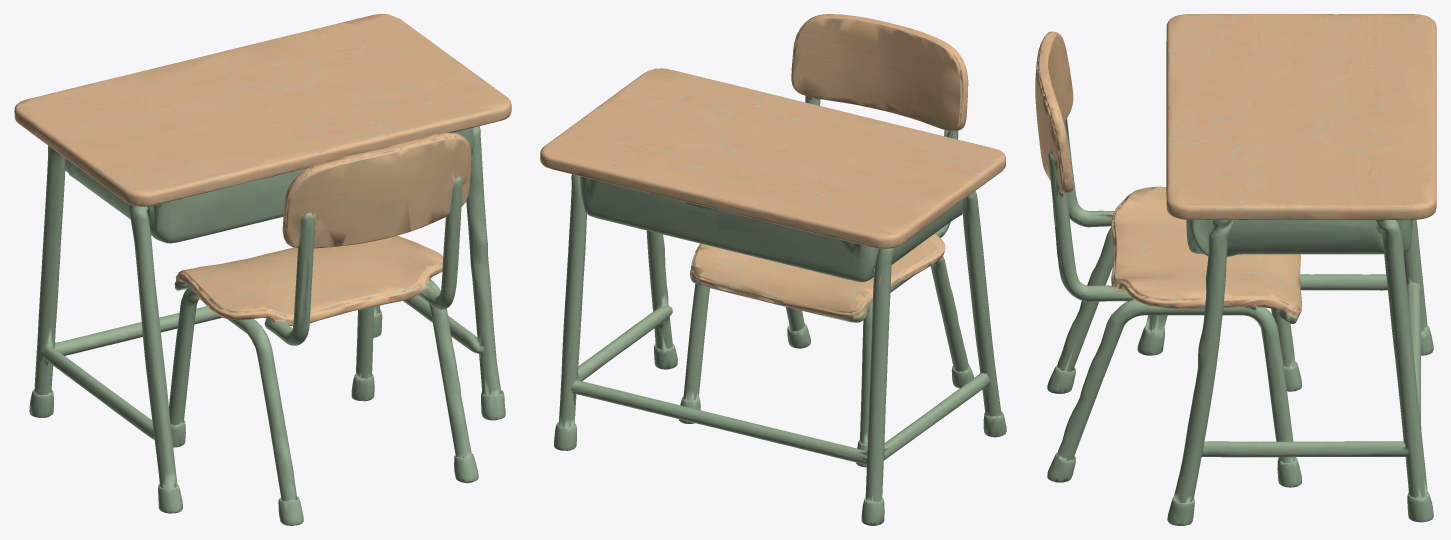
The model's file is desk.glb.
The picture shows the model from 3 angles, left to right: view 1: azimuth 30°, elevation 25°; view 2: azimuth 150°, elevation 25°; view 3: azimuth 270°, elevation 25°; orthographic projection. The views are drawn at different scales.
Bounding box in the file's own units: 1.9 × 1.7 × 1.66.
1 material, 1 textured.
